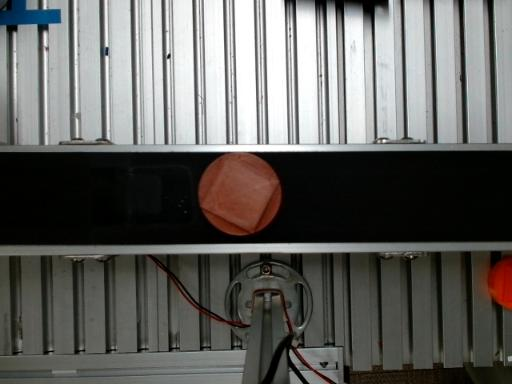Brown_Waper: (198, 152, 281, 235)
Square: (201, 156, 281, 234)
